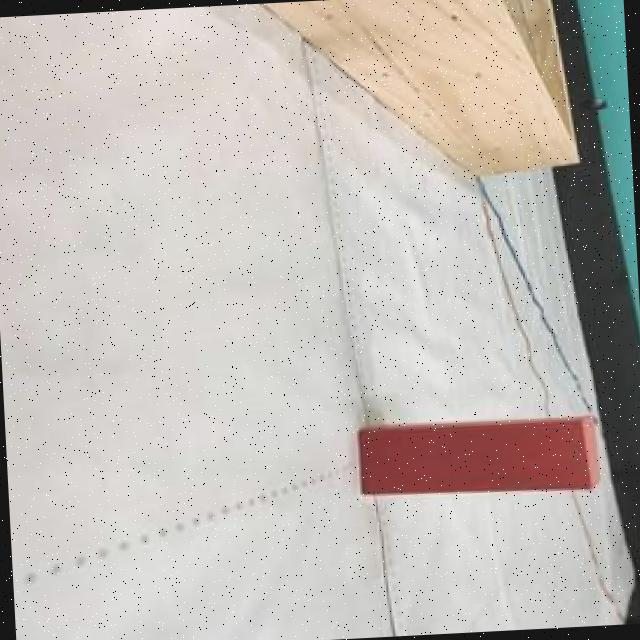redbox: (356, 414, 606, 503)
